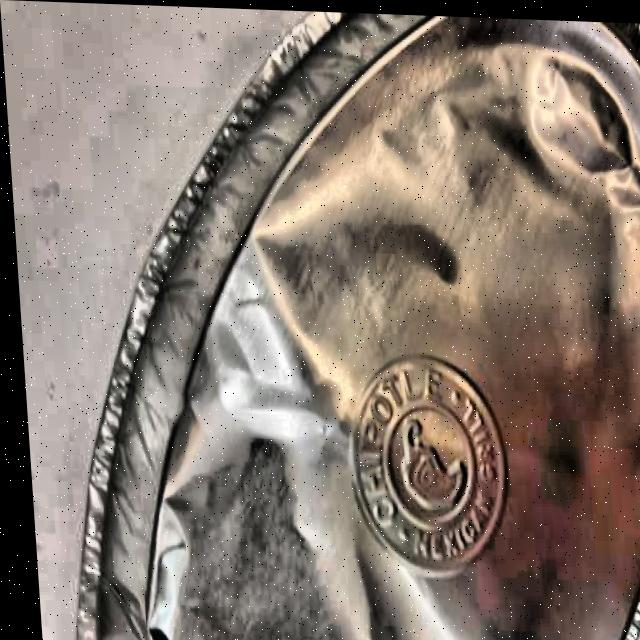metal: (33, 1, 640, 640)
